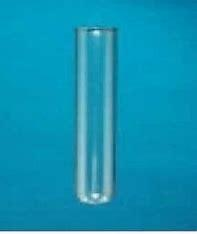Test tube: (60, 15, 120, 208)
